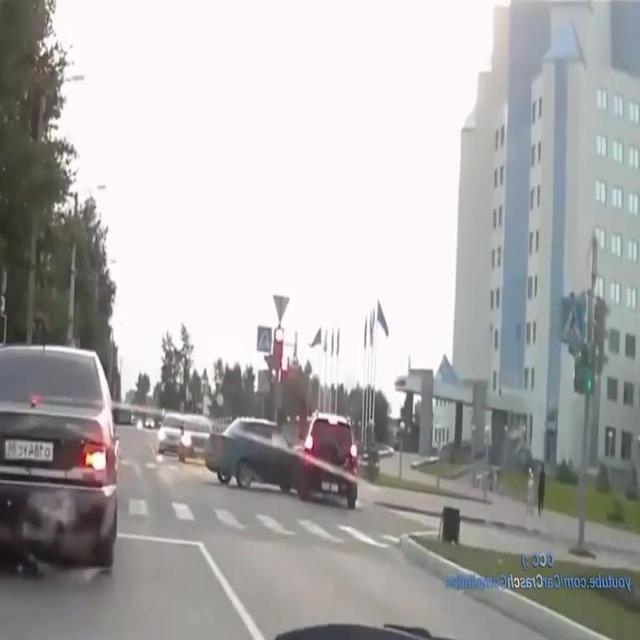multiple_accident: (233, 401, 377, 519)
